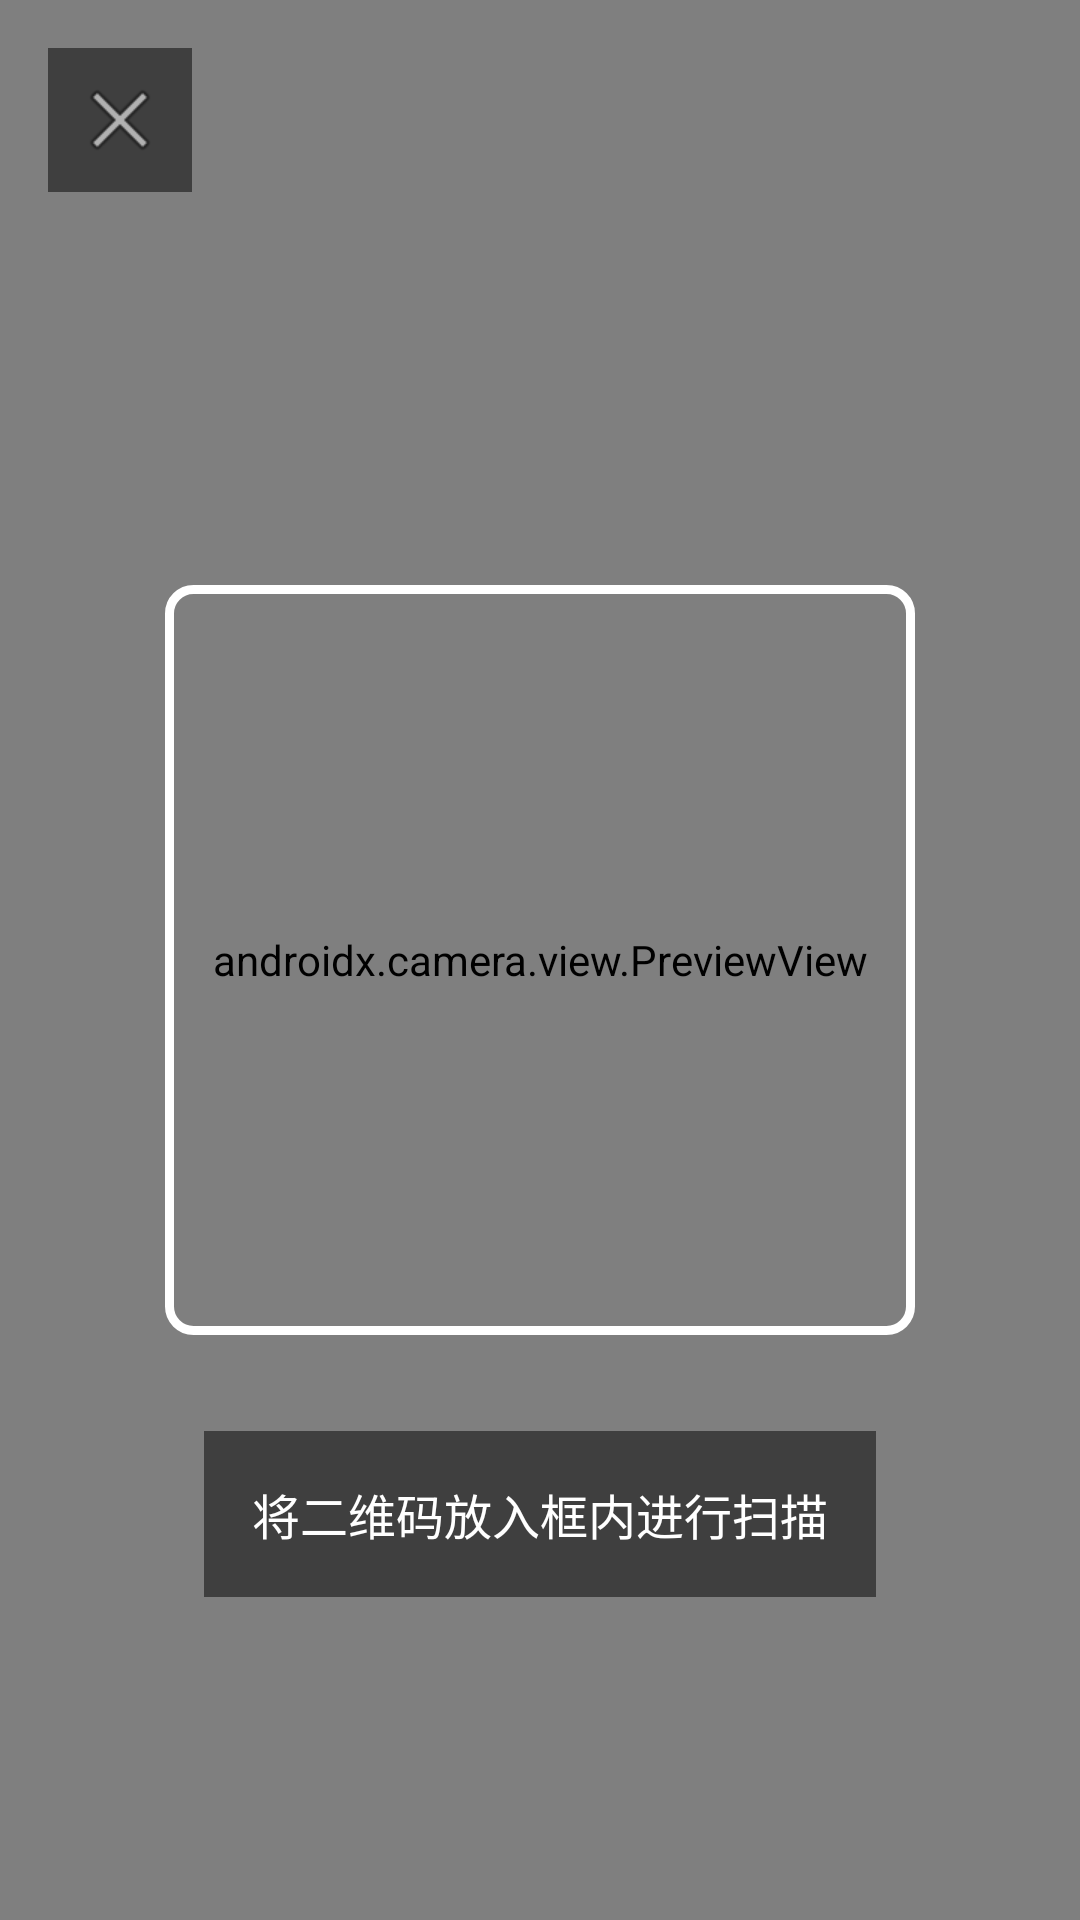

Where to tap for icons on this 1080x1920 app screen, as [x,y]:
关闭: [120,120]
